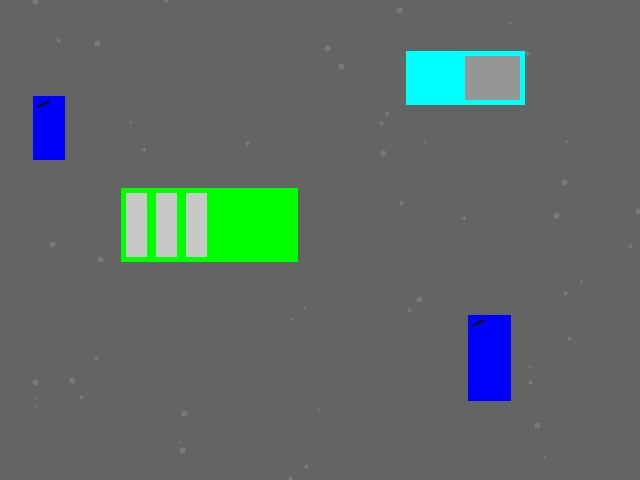bus: (121, 188, 297, 261)
motorcycle: (468, 315, 510, 400), (33, 96, 64, 159)
truck: (406, 51, 524, 104)
